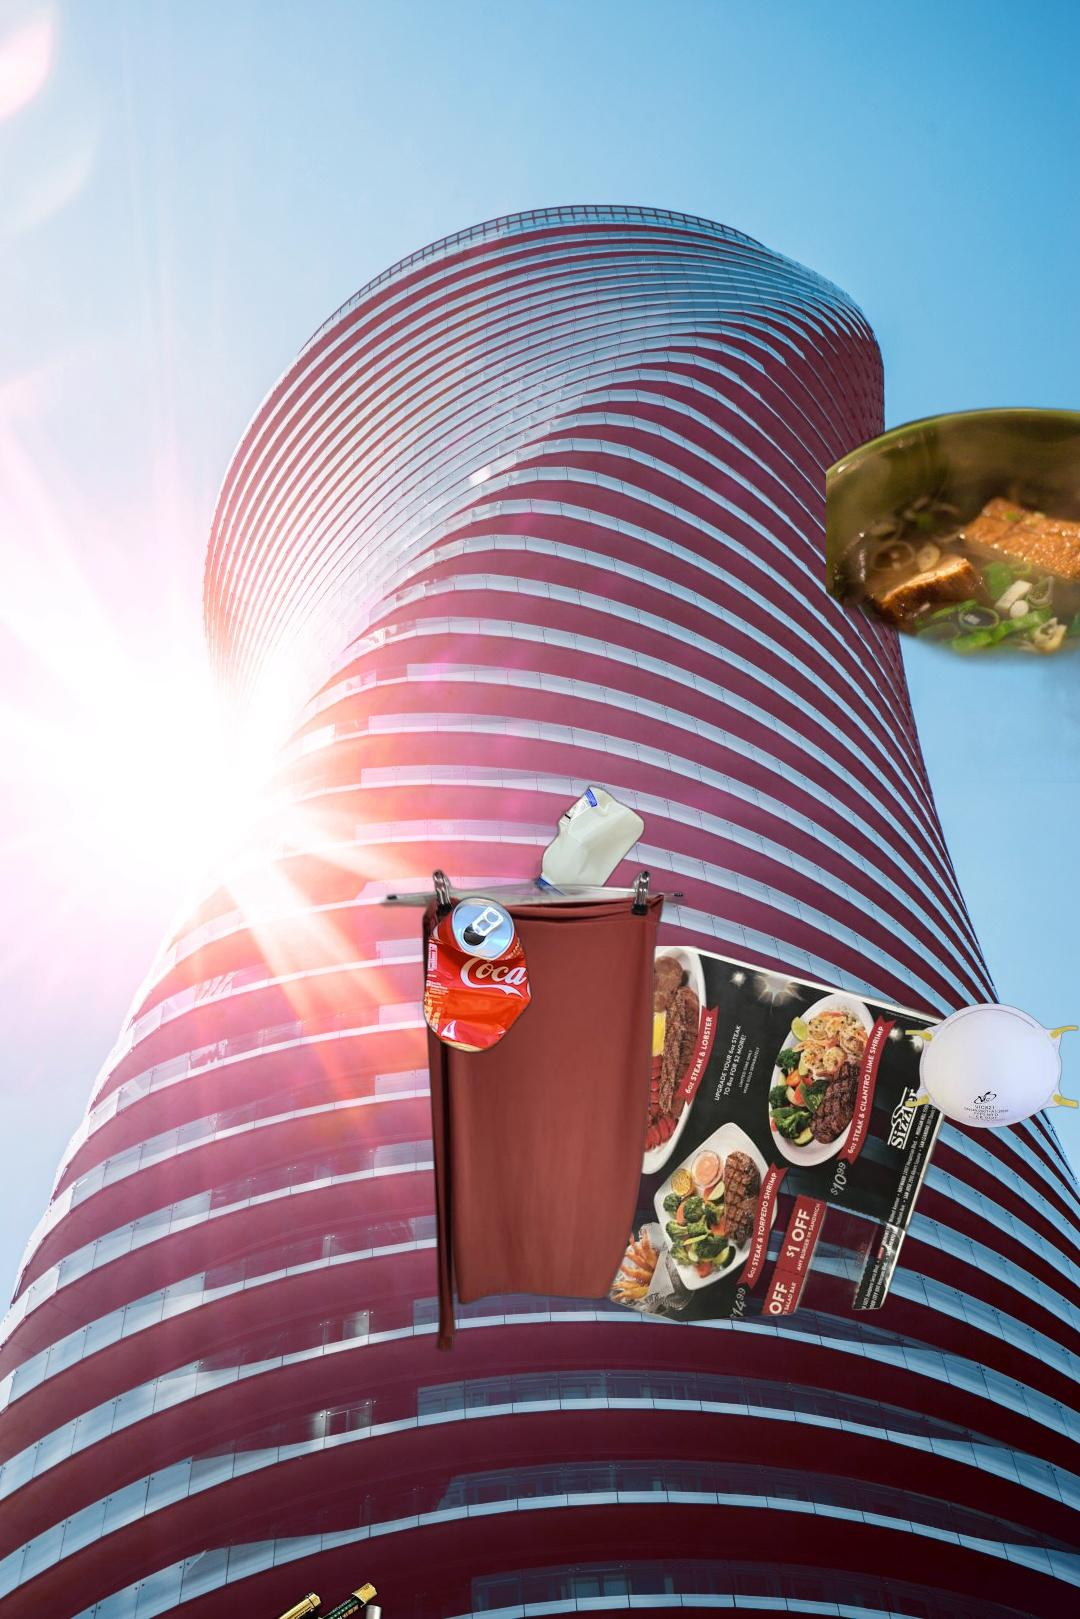battery: (243, 1580, 482, 1619)
biological: (826, 404, 1080, 784)
clothes: (363, 860, 691, 1356)
metal-cans: (419, 891, 535, 1058)
paper: (563, 946, 974, 1330)
plastic-bottles: (530, 779, 648, 907)
trash: (902, 1001, 1080, 1131)
